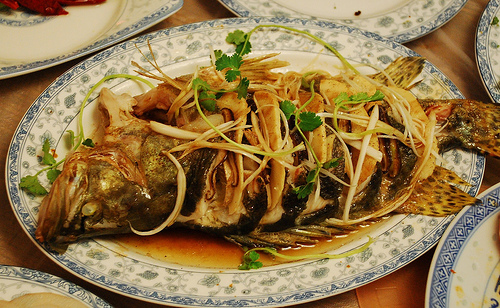fish: (4, 74, 499, 259)
